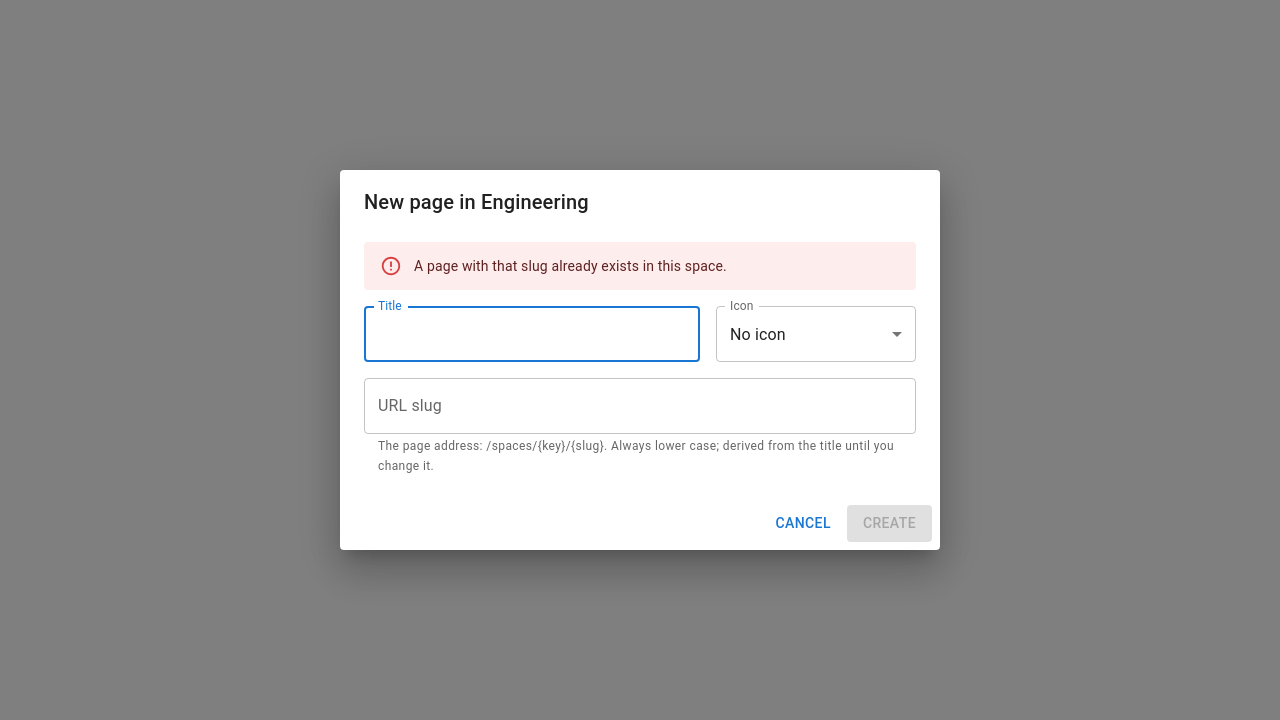
Test case: CreatePageDialog › shows a server refusal inline and keeps what was typed
Type "Launch notes" into the field labelled "Title" at (532, 334), box [364,306,700,362]
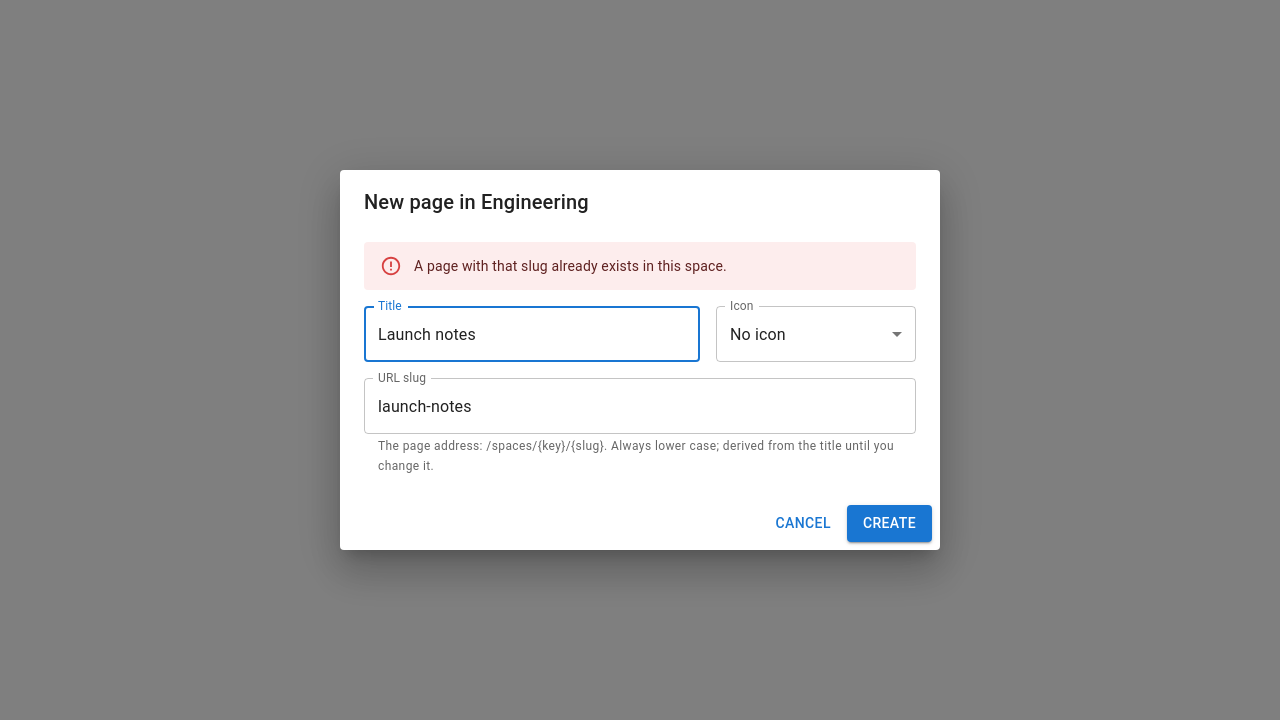
Expected: the text "A page with that slug already exists in this space." is shown, [414,258,727,274]
Now the field labelled "URL slug" holds "launch-notes", box [364,378,916,434]
